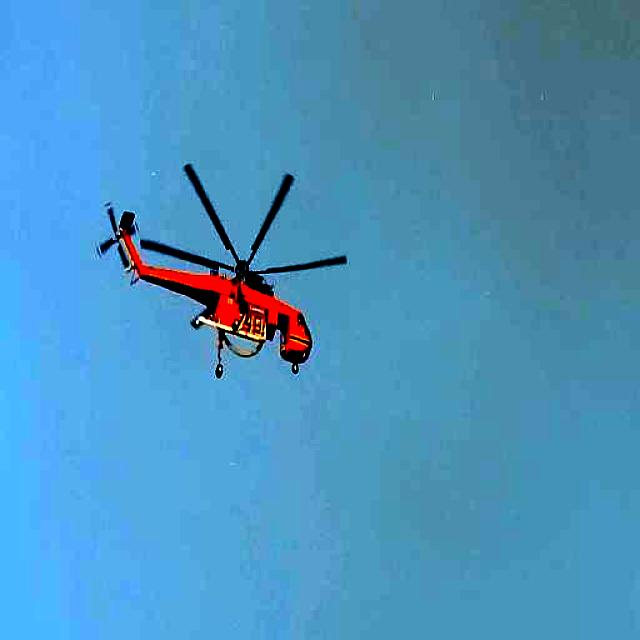drone: (82, 128, 360, 426)
